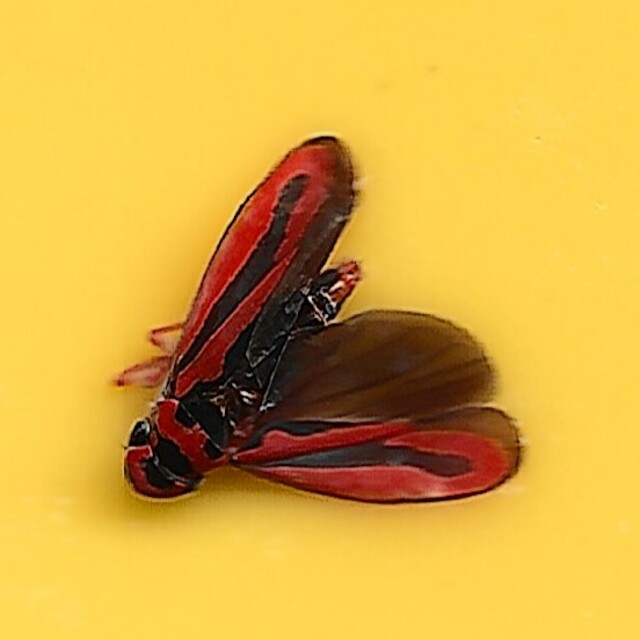Hemiptera: (116, 133, 524, 507)
